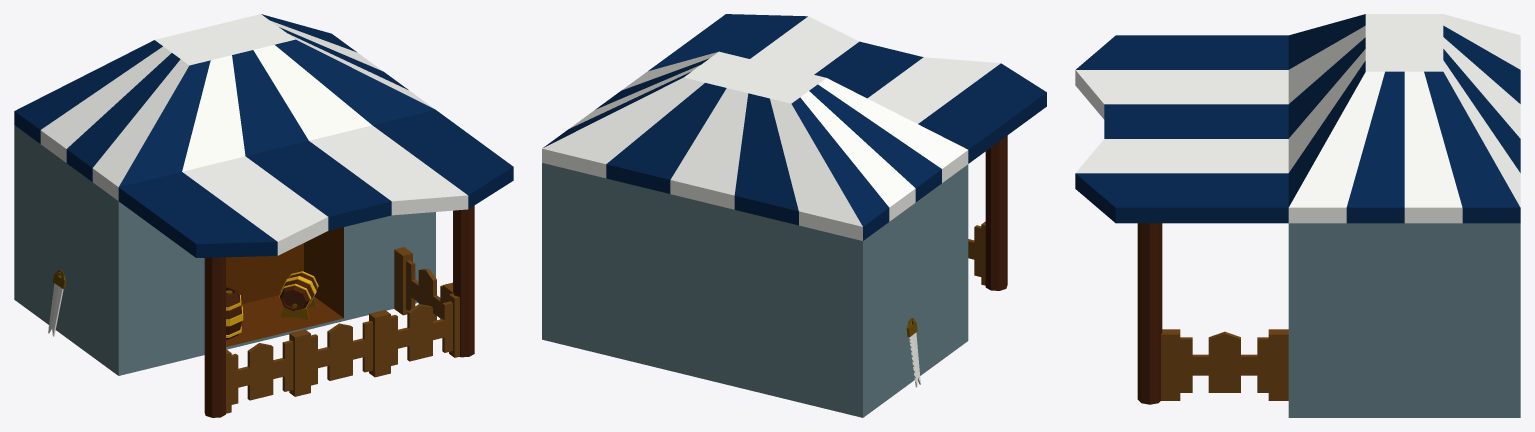
File: BlueWorkshop.fbx
3 views of the same model, side by side, from view 1: azimuth 30°, elevation 25°; view 2: azimuth 150°, elevation 25°; view 3: azimuth 270°, elevation 25° (orthographic). The views are drawn at different scales.
Parts seen in each view (by area): view 1: Workshop, Cube.002, Pillars, Cube.001, Cylinder.001, Cylinder, Cube.003; view 2: Workshop, Pillars, Cube.002, Cube.003; view 3: Workshop, Cube.001, Pillars.
Part boxes in pixels (left/top/right/bottom): Workshop: left=14, top=14, right=513, bottom=375; Cube.002: left=226, top=293, right=459, bottom=413; Pillars: left=204, top=205, right=474, bottom=417; Cube.001: left=394, top=247, right=452, bottom=320; Cylinder.001: left=279, top=271, right=318, bottom=319; Cylinder: left=226, top=286, right=243, bottom=339; Cube.003: left=48, top=270, right=65, bottom=336; Workshop: left=542, top=14, right=1046, bottom=417; Pillars: left=985, top=135, right=1007, bottom=290; Cube.002: left=968, top=221, right=985, bottom=285; Cube.003: left=906, top=318, right=920, bottom=387; Workshop: left=1075, top=14, right=1520, bottom=417; Cube.001: left=1161, top=329, right=1288, bottom=400; Pillars: left=1137, top=223, right=1162, bottom=404.
Bounding box in the file's own units: 363 × 275 × 384.
